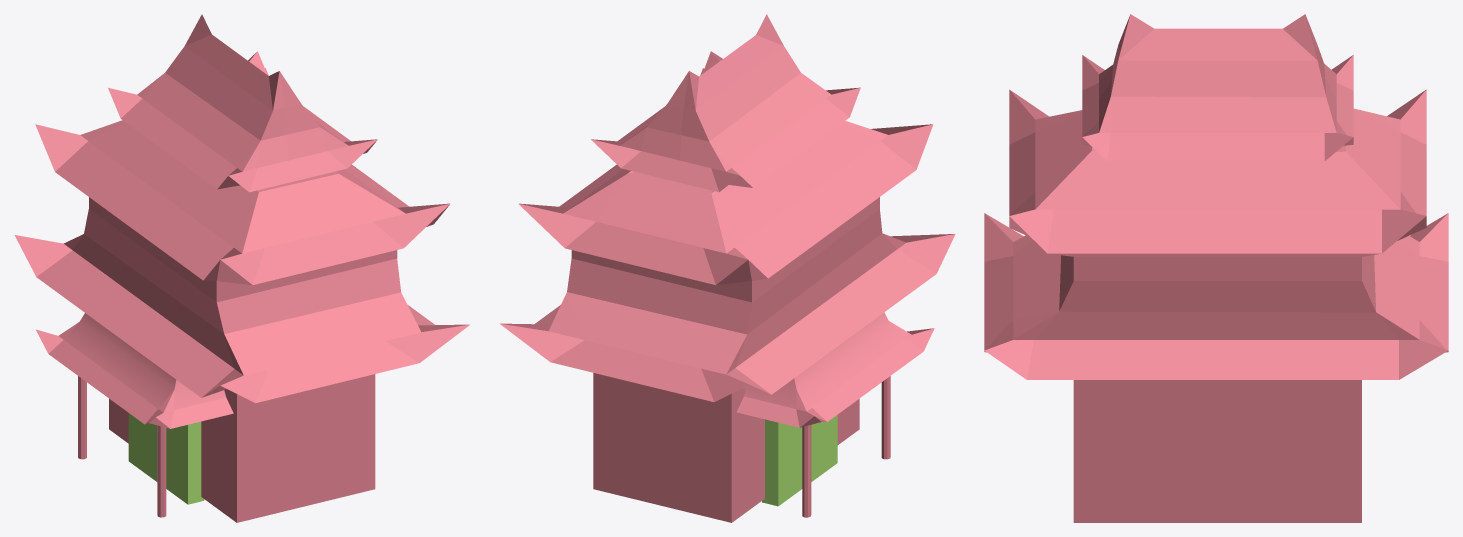
Rendered from Asset_BlockChina_BigHouse.fbx.
3 renders of one model, left to right at view 1: azimuth 30°, elevation 25°; view 2: azimuth 150°, elevation 25°; view 3: azimuth 270°, elevation 25°, orthographic. The views are drawn at different scales.
Parts seen in each view (by area): view 1: Asset_BlockChina_BigHouse; view 2: Asset_BlockChina_BigHouse; view 3: Asset_BlockChina_BigHouse.
Boxes of the visible parts, x1,y1,x2,y2 form: Asset_BlockChina_BigHouse: (14, 14, 469, 522); Asset_BlockChina_BigHouse: (500, 14, 955, 522); Asset_BlockChina_BigHouse: (984, 14, 1448, 522).
Bounding box in the file's own units: 117 × 173 × 153.
